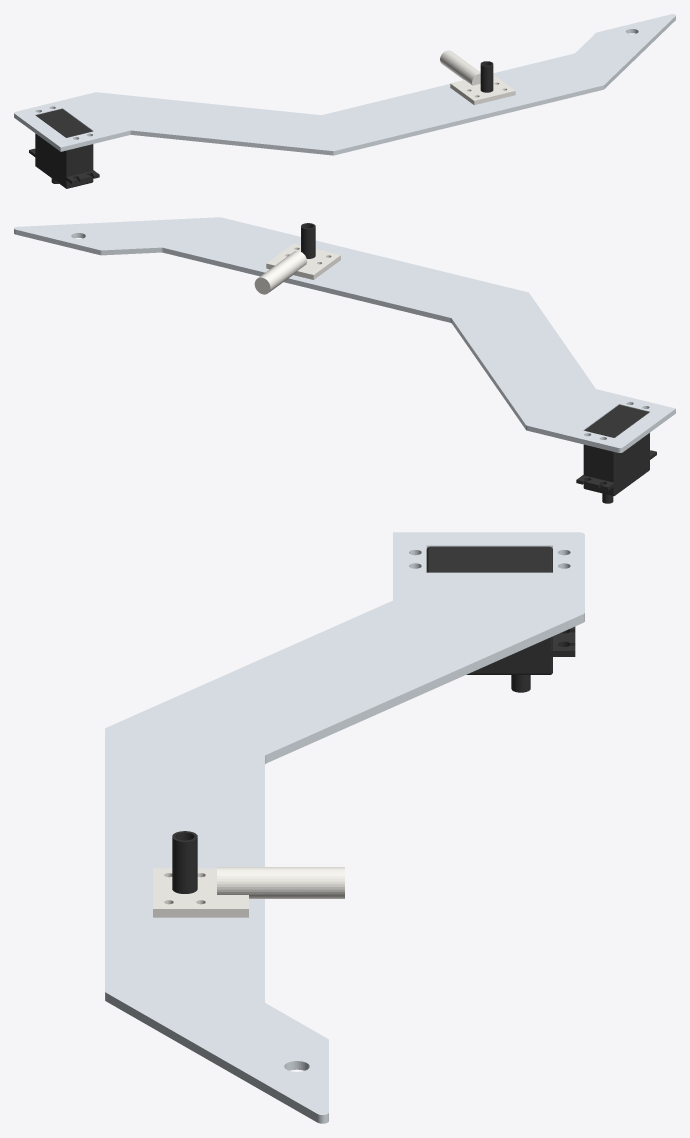
File: right_rocker_link.dae
3 views of the same model, one above another, from view 1: azimuth 30°, elevation 25°; view 2: azimuth 150°, elevation 25°; view 3: azimuth 270°, elevation 25° (orthographic). The views are drawn at different scales.
Parts seen in each view (by area): view 1: r_rocker_link_-_rocker_plate_MIR-1, r_rocker_link_-_GWS_s35t_std_MIR-3, r_rocker_link_-_diff_link_pale_MIR-1; view 2: r_rocker_link_-_rocker_plate_MIR-1, r_rocker_link_-_GWS_s35t_std_MIR-3, r_rocker_link_-_diff_link_pale_MIR-1; view 3: r_rocker_link_-_rocker_plate_MIR-1, r_rocker_link_-_GWS_s35t_std_MIR-3, r_rocker_link_-_diff_link_pale_MIR-1.
Boxes of the visible parts, <box> form: r_rocker_link_-_rocker_plate_MIR-1: <box>14,14,675,155</box>; r_rocker_link_-_GWS_s35t_std_MIR-3: <box>29,61,493,188</box>; r_rocker_link_-_diff_link_pale_MIR-1: <box>440,50,515,105</box>; r_rocker_link_-_rocker_plate_MIR-1: <box>14,217,675,452</box>; r_rocker_link_-_GWS_s35t_std_MIR-3: <box>301,223,656,503</box>; r_rocker_link_-_diff_link_pale_MIR-1: <box>254,243,340,294</box>; r_rocker_link_-_rocker_plate_MIR-1: <box>105,532,584,1123</box>; r_rocker_link_-_GWS_s35t_std_MIR-3: <box>172,546,575,893</box>; r_rocker_link_-_diff_link_pale_MIR-1: <box>153,867,344,917</box>.
Bounding box in the file's own units: 0.4309 × 0.15 × 0.0656.
Materials: 3 (3 with a texture image).
